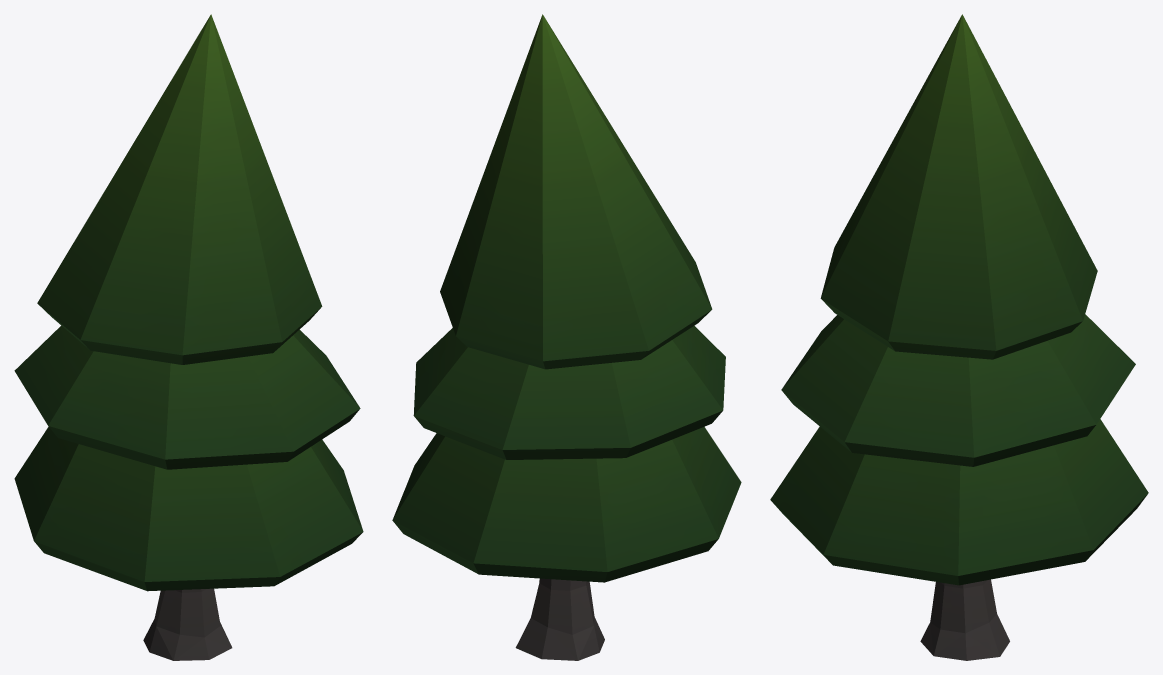
Rendered from Dshense.FBX.
3 renders of one model, left to right at view 1: azimuth 30°, elevation 25°; view 2: azimuth 150°, elevation 25°; view 3: azimuth 270°, elevation 25°, orthographic. The views are drawn at different scales.
Parts seen in each view (by area): view 1: PineTree_F_01 - Default_0; view 2: PineTree_F_01 - Default_0; view 3: PineTree_F_01 - Default_0.
Part boxes in pixels (x1,y1,x2,y2): PineTree_F_01 - Default_0: (14, 14, 363, 660); PineTree_F_01 - Default_0: (392, 14, 741, 660); PineTree_F_01 - Default_0: (770, 14, 1148, 660).
Bounding box in the file's own units: 24.31 × 47.22 × 25.37.
